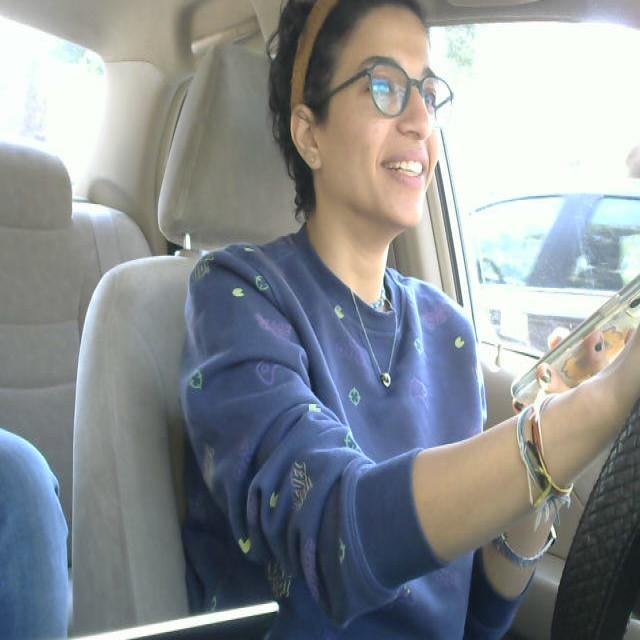mobile use: (500, 248, 640, 424)
